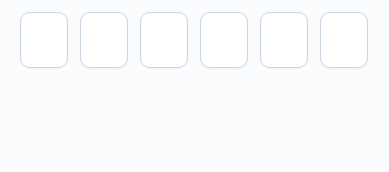
it: OtpInput › strips separators from a pasted code
Click the field named "Digit 1 of 6": (44, 40) x1=20 y1=12 x2=68 y2=68
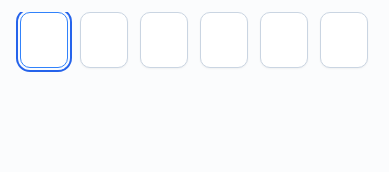
Type keys "12 34-56"
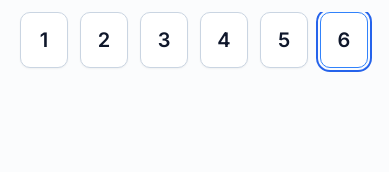
Expected: the field named "Digit 6 of 6" holds "6", x1=320 y1=12 x2=368 y2=68
